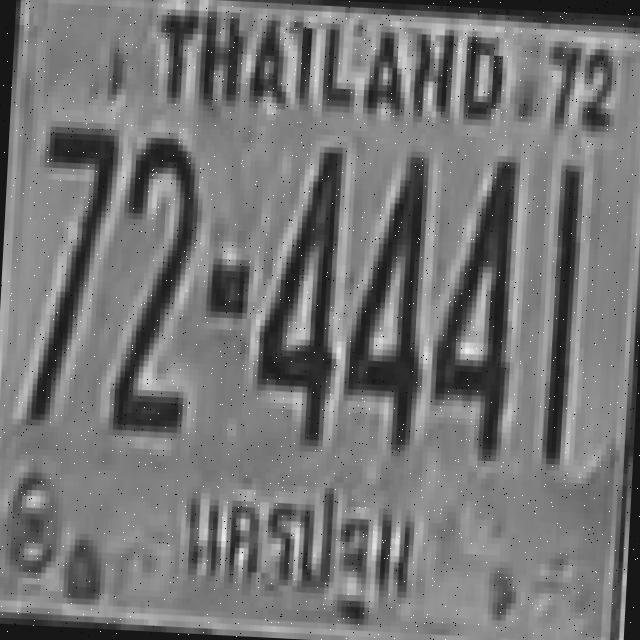2: (115, 134, 201, 396), (116, 131, 202, 375), (108, 195, 194, 428)
4: (336, 146, 429, 448), (426, 150, 518, 453), (250, 140, 343, 438), (339, 146, 427, 431)
7: (22, 124, 115, 420), (27, 120, 115, 418), (36, 120, 116, 324)
NakhonPathom: (158, 466, 434, 631)
